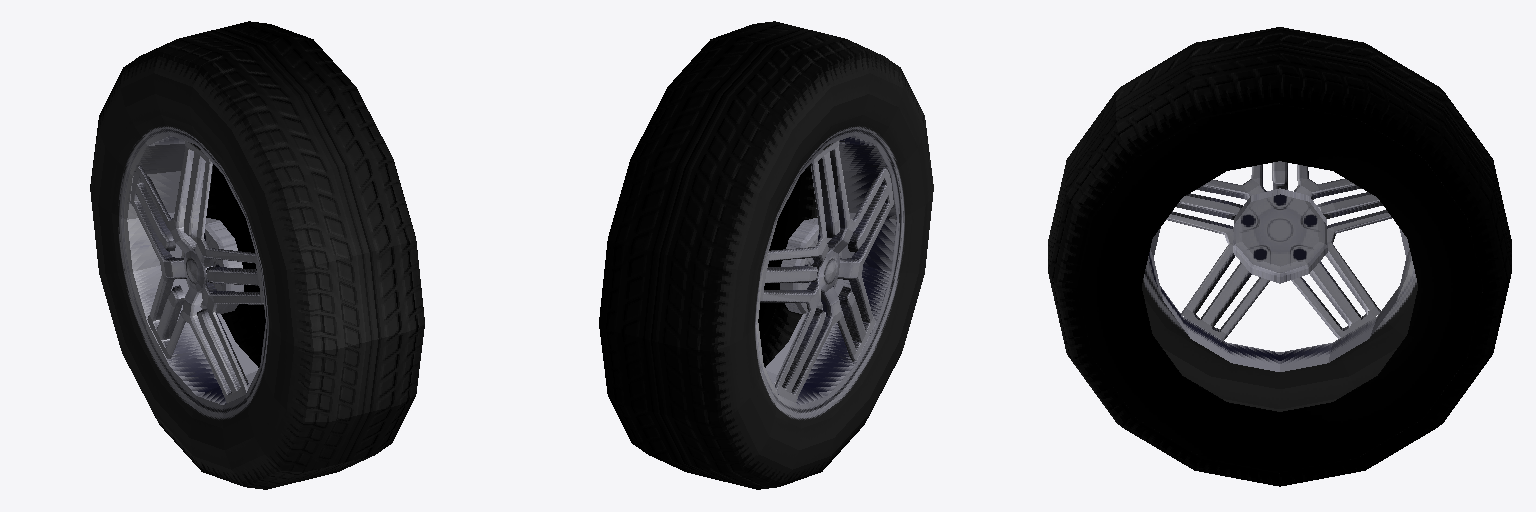
3 views of the same model, side by side, from view 1: azimuth 30°, elevation 25°; view 2: azimuth 150°, elevation 25°; view 3: azimuth 270°, elevation 25° (orthographic).
Visible parts, largest first — view 1: wheels_n_acc; view 2: wheels_n_acc; view 3: wheels_n_acc.
Part boxes in pixels (x1,y1,x2,y2): wheels_n_acc: (90, 21, 424, 489); wheels_n_acc: (599, 21, 933, 489); wheels_n_acc: (1048, 27, 1511, 486).
Bounding box in the file's own units: 3.51 × 10.12 × 10.12.
Materials: 1 (1 with a texture image).